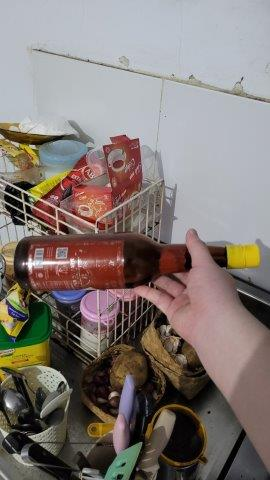botolkaca: (13, 234, 262, 294)
